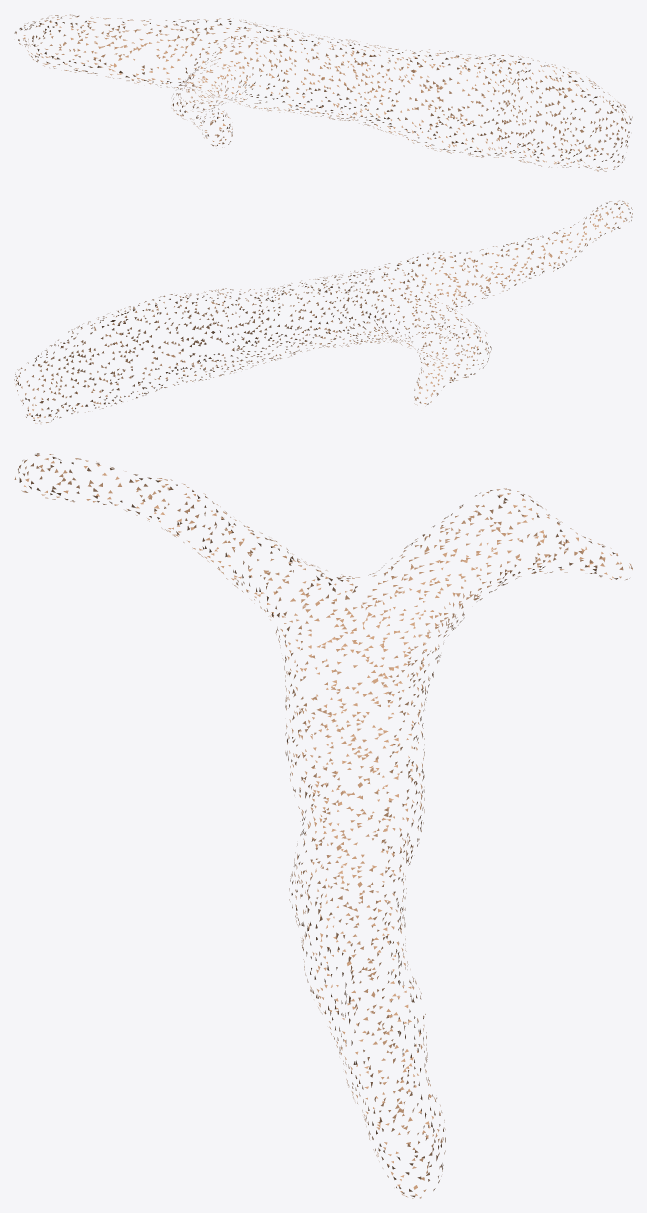
File: morph_005.glb
The picture shows the model from 3 angles, top to bottom: view 1: azimuth 30°, elevation 25°; view 2: azimuth 150°, elevation 25°; view 3: azimuth 270°, elevation 25°; orthographic projection. The views are drawn at different scales.
Size of the model in its own units: 131 by 62.09 by 89.55.
